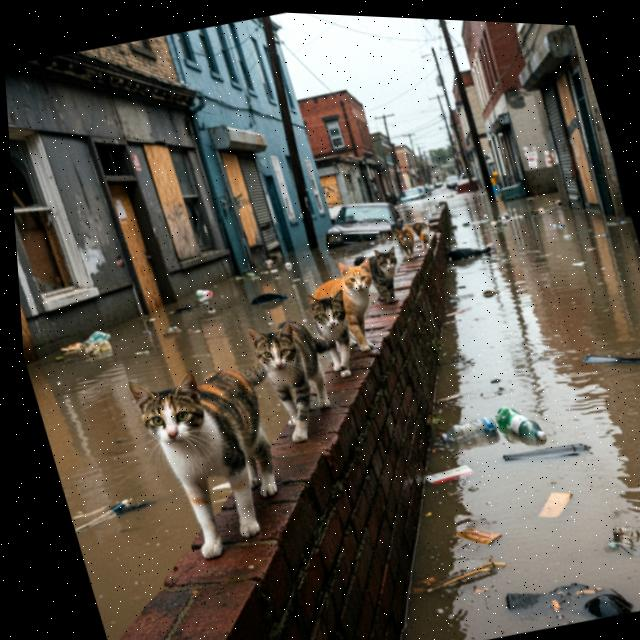cat: (113, 345, 322, 575), (239, 307, 358, 457), (301, 254, 394, 362), (302, 285, 368, 387), (350, 242, 413, 315)
